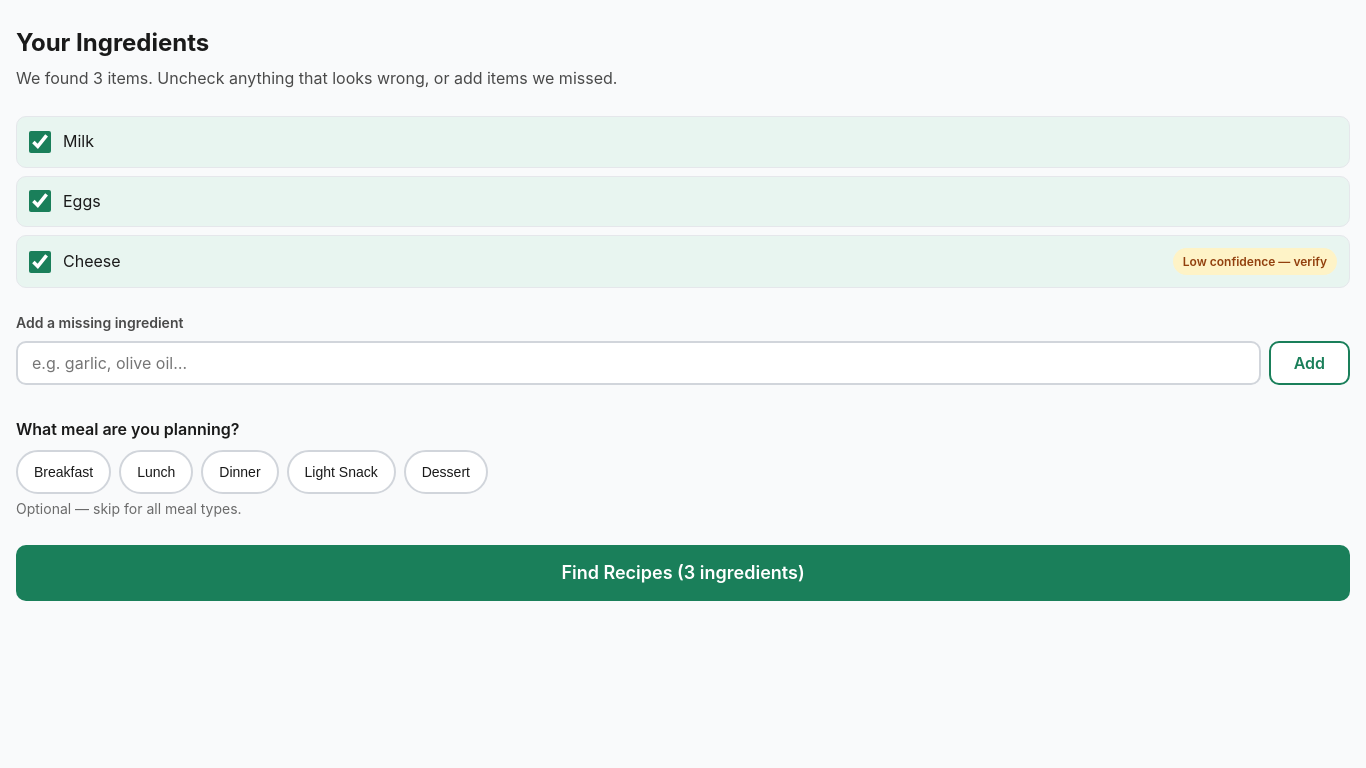
Scenario: IngredientReview › allows adding a new ingredient via the text field
Type "Spinach" into the field named "type an ingredient to add" at x=638, y=363, box [16, 341, 1261, 385]
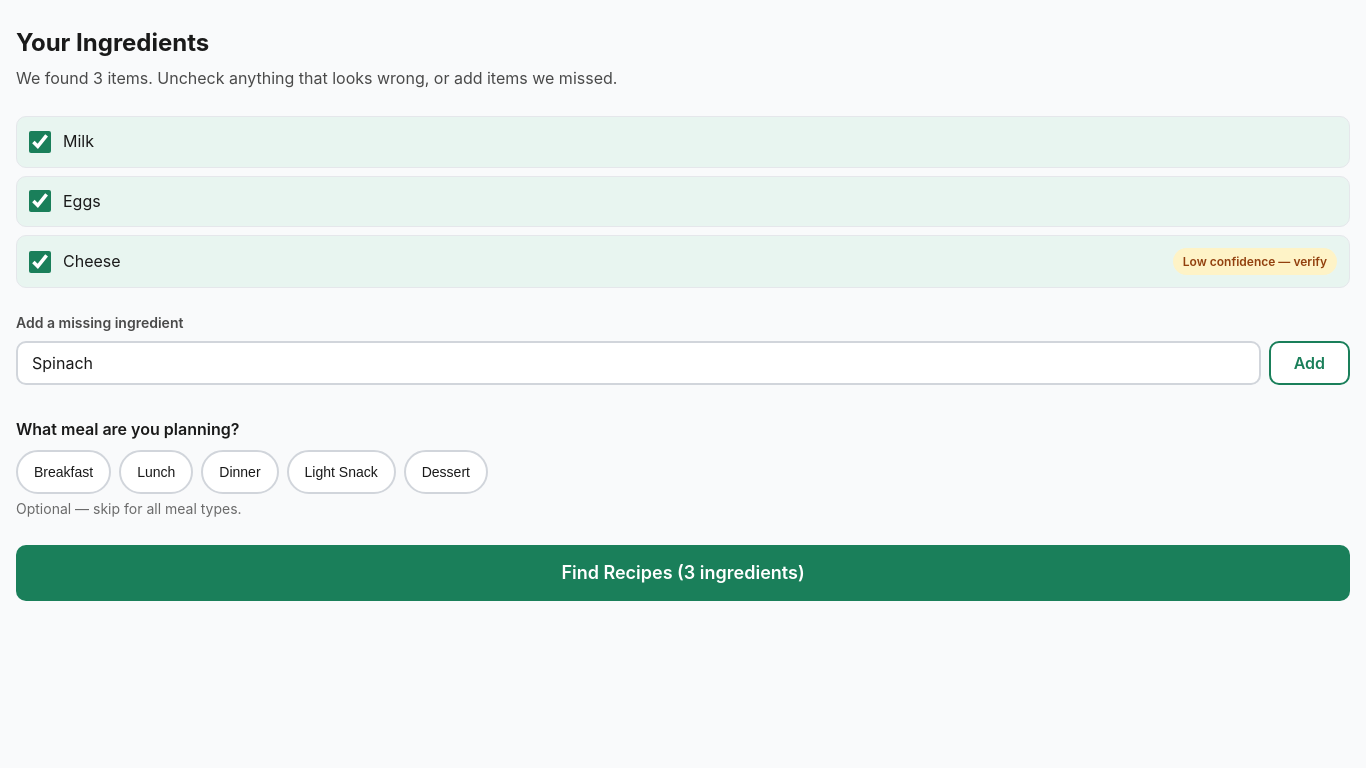
Click the button with aria-label "add ingredient" at x=1309, y=363, box [1269, 341, 1350, 385]
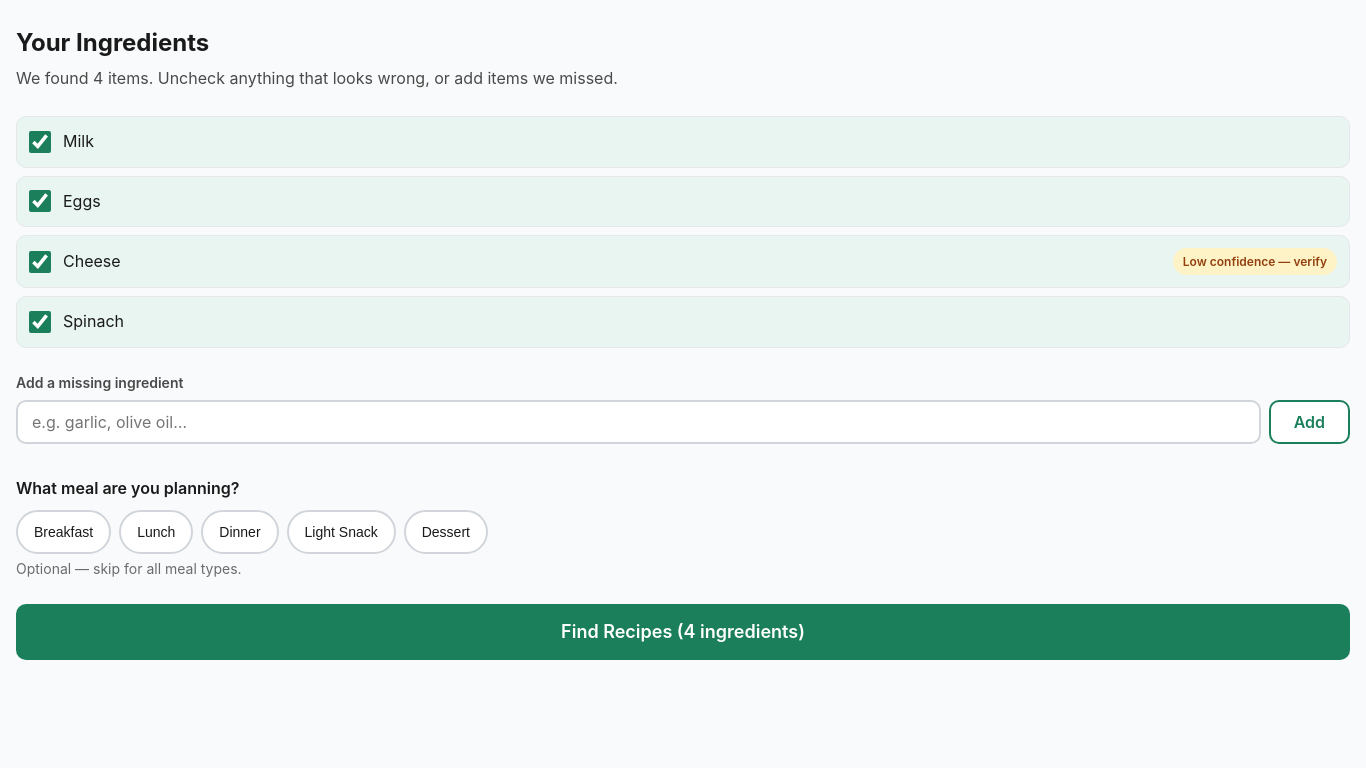
Result: the text "Spinach" is shown at [63, 311, 124, 331]
